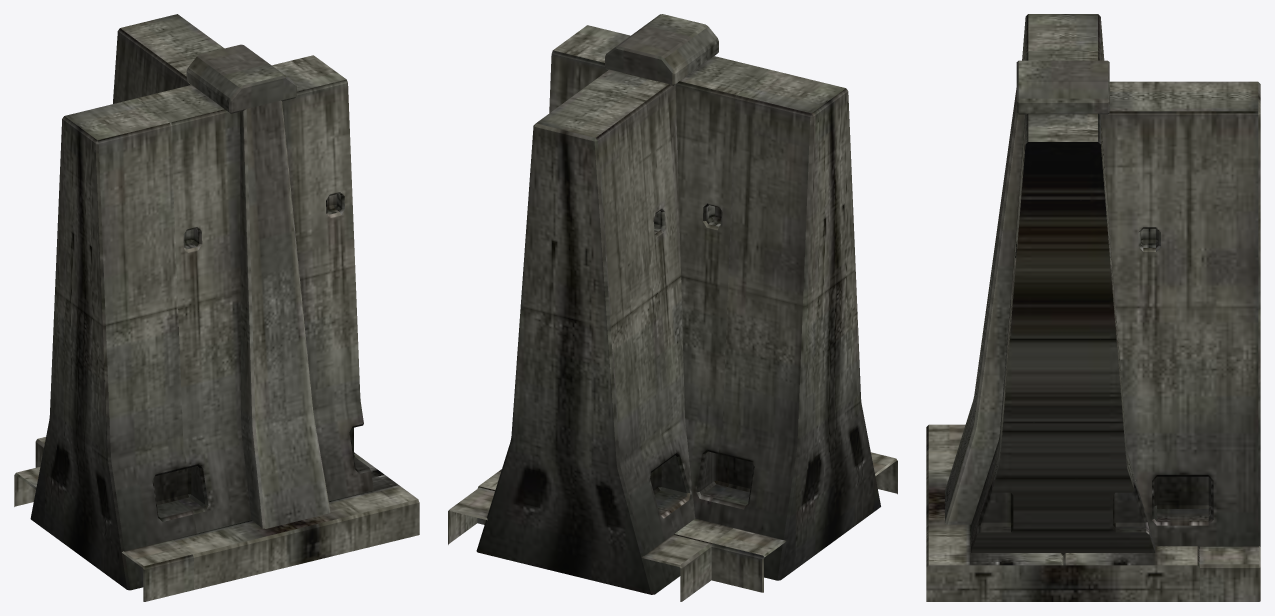
Rendered from stone-wall-nw.glb.
3 views of the same model, side by side, from view 1: azimuth 30°, elevation 25°; view 2: azimuth 150°, elevation 25°; view 3: azimuth 270°, elevation 25° (orthographic). The views are drawn at different scales.
Parts seen in each view (by area): view 1: body; view 2: body; view 3: body.
Boxes of the visible parts, x1,y1,x2,y2 form: body: (14, 14, 419, 601); body: (448, 14, 897, 601); body: (926, 14, 1260, 601).
Bounding box in the file's own units: 0.8466 × 1.32 × 0.8466.
Materials: 1 (1 with a texture image).
